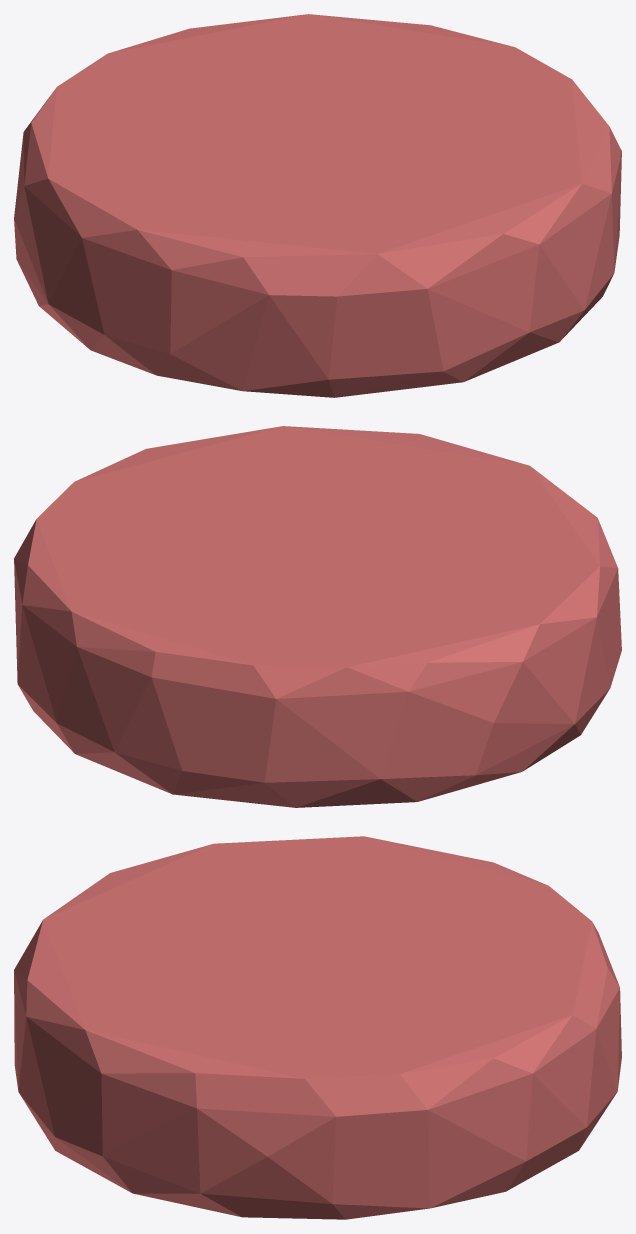
The model's file is F_Meat.fbx.
The picture shows the model from 3 angles, top to bottom: view 1: azimuth 30°, elevation 25°; view 2: azimuth 150°, elevation 25°; view 3: azimuth 270°, elevation 25°; orthographic projection.
Visible parts, largest first — view 1: Cylinder.001; view 2: Cylinder.001; view 3: Cylinder.001.
Boxes of the visible parts, box(x1,y1,x2,y2) form: Cylinder.001: box(14, 14, 621, 397); Cylinder.001: box(14, 426, 621, 807); Cylinder.001: box(14, 836, 621, 1219).
Size of the model in its own units: 14.25 by 3.65 by 14.15.
